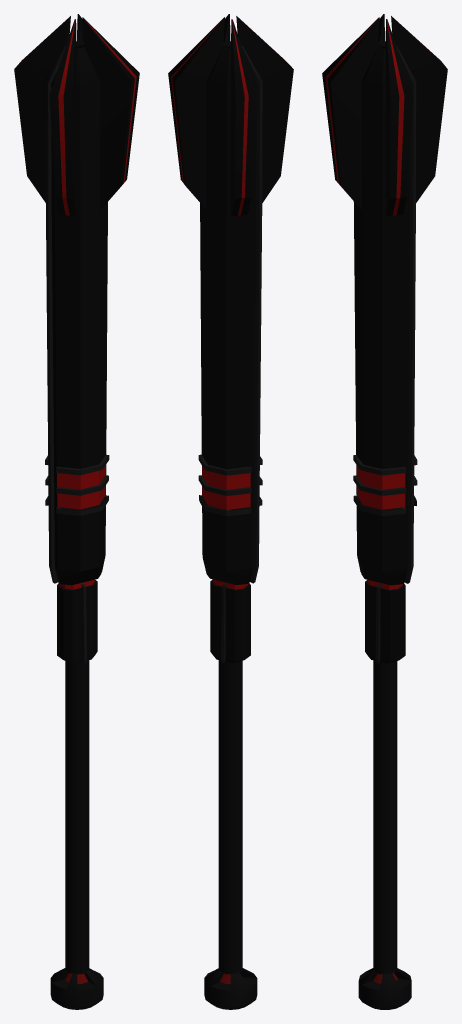
Rendered from Mace01.fbx.
3 renders of one model, left to right at view 1: azimuth 30°, elevation 25°; view 2: azimuth 150°, elevation 25°; view 3: azimuth 330°, elevation 25°, orthographic.
Parts seen in each view (by area): view 1: pCube1, pCylinder1; view 2: pCube1, pCylinder1; view 3: pCube1, pCylinder1.
Boxes of the visible parts, x1,y1,x2,y2 form: pCube1: (14,14,139,663); pCylinder1: (50,660,103,1009); pCube1: (168,14,293,663); pCylinder1: (204,660,257,1009); pCube1: (322,14,447,663); pCylinder1: (358,660,411,1009).
Bounding box in the file's own units: 13.15 × 136 × 12.56.
